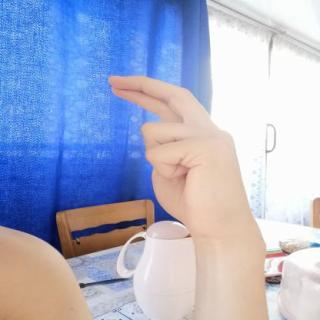ZAY: (95, 68, 268, 246)
